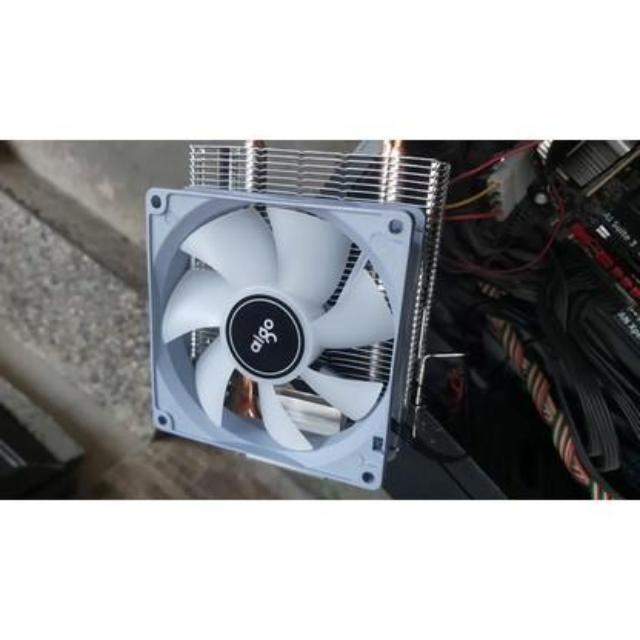CPU_Fan: (142, 137, 436, 489)
